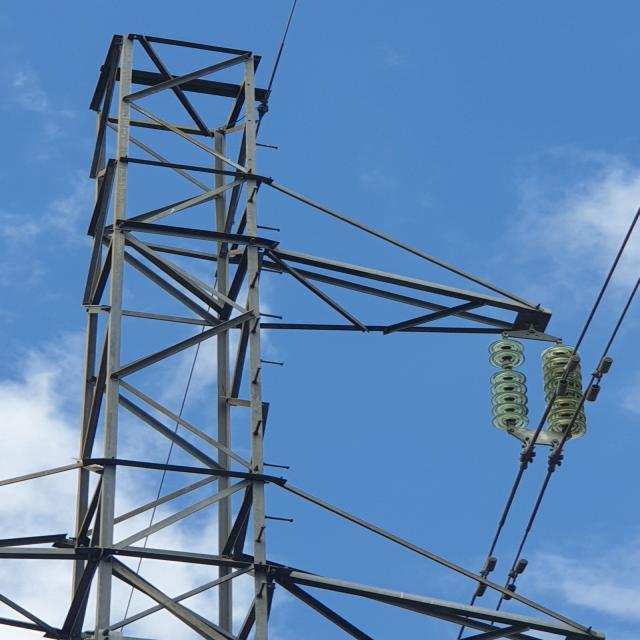杆塔: (72, 17, 600, 640)
正常绝缘子: (485, 325, 534, 447), (547, 330, 584, 456)
绝缘子破损: (502, 362, 514, 369)
